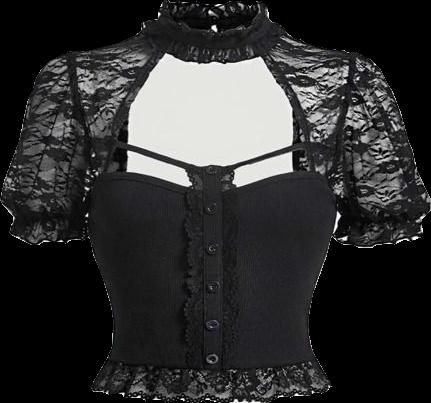Bodice: (66, 0, 355, 402)
Neckline: (92, 48, 168, 180), (260, 53, 326, 179), (94, 168, 330, 197), (140, 26, 285, 63), (160, 0, 266, 33)
Sleeve: (331, 53, 430, 247), (1, 55, 91, 244)
Sleeveline: (329, 53, 358, 184), (66, 53, 94, 183), (335, 213, 419, 224), (12, 214, 85, 220)
Waistline: (89, 383, 333, 402)
